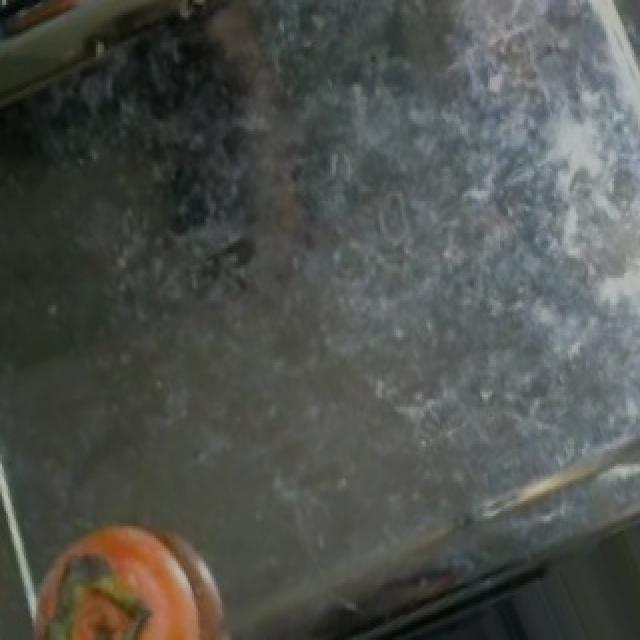Fruit: (8, 503, 222, 640)
